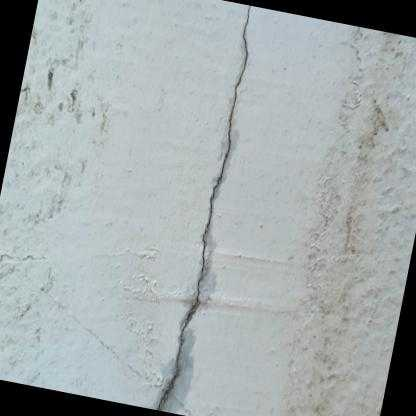crack: (156, 4, 249, 410)
